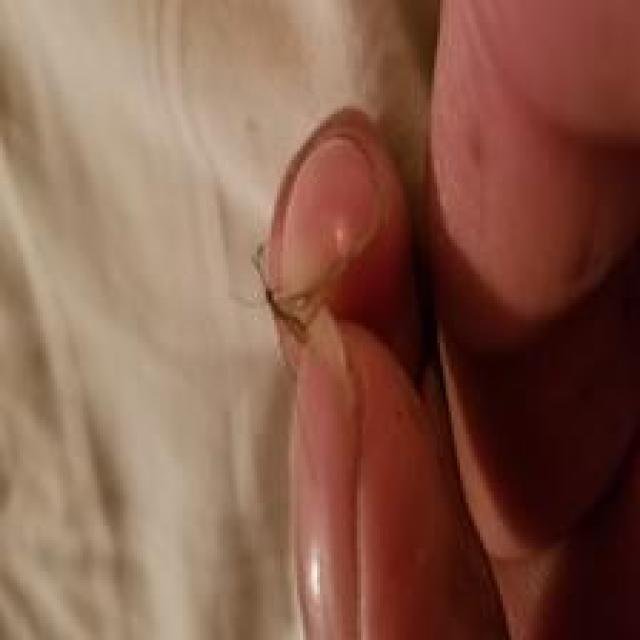Culex: (250, 104, 524, 639)
